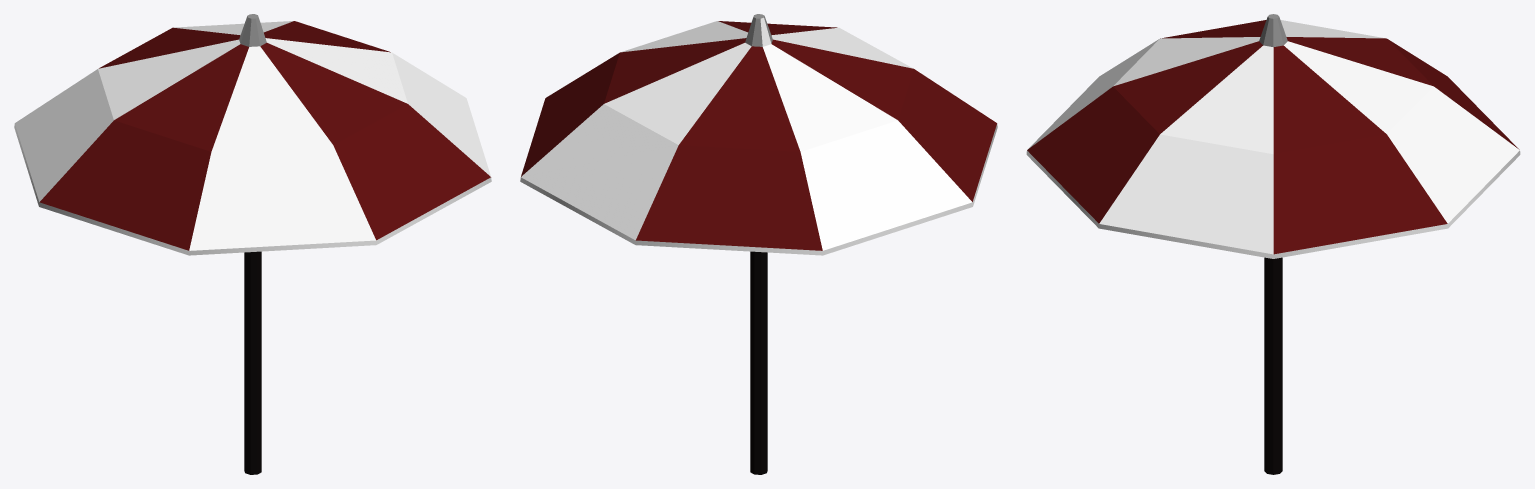
The model's file is Liz_umbrella.FBX.
3 views of the same model, side by side, from view 1: azimuth 30°, elevation 25°; view 2: azimuth 150°, elevation 25°; view 3: azimuth 270°, elevation 25° (orthographic).
Parts seen in each view (by area): view 1: Cylinder001; view 2: Cylinder001; view 3: Cylinder001.
Part boxes in pixels (x1,y1,x2,y2): Cylinder001: (14, 14, 491, 474); Cylinder001: (520, 14, 997, 474); Cylinder001: (1026, 14, 1520, 474).
Size of the model in its own units: 94.08 by 95.55 by 94.08.
